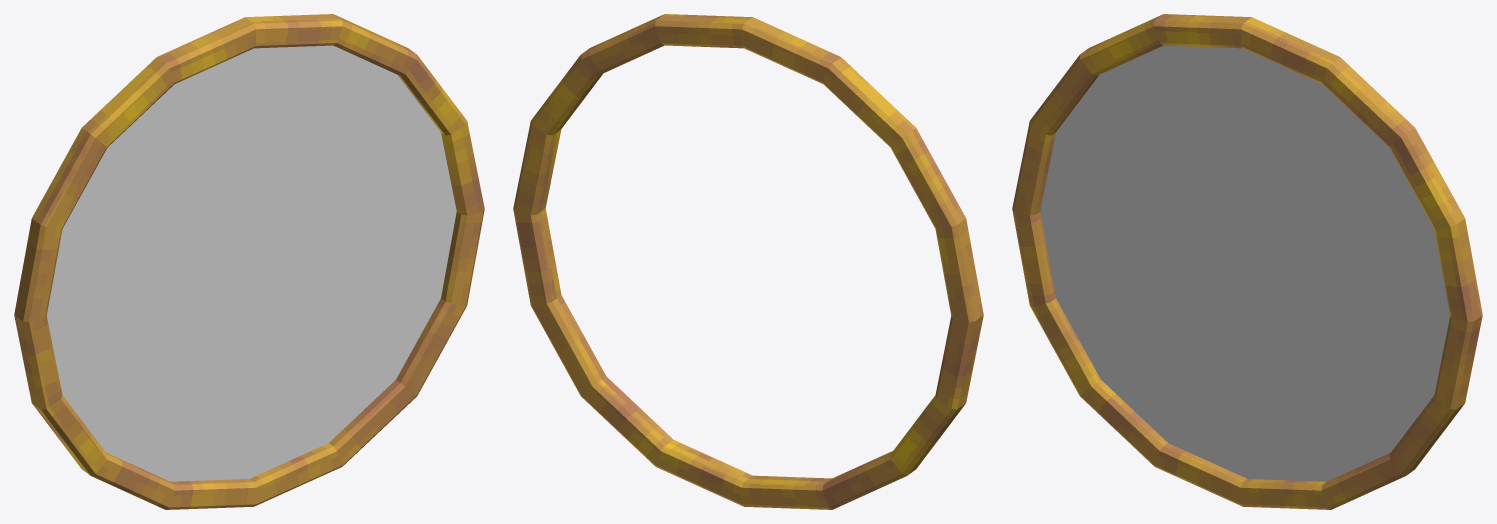
The model's file is ring.glb.
3 renders of one model, left to right at view 1: azimuth 30°, elevation 25°; view 2: azimuth 150°, elevation 25°; view 3: azimuth 330°, elevation 25°, orthographic.
Visible parts, largest first — view 1: EnergyField, Ring; view 2: Ring; view 3: EnergyField, Ring.
Boxes of the visible parts, bbox=[...] form: EnergyField: bbox=[46, 45, 456, 481]; Ring: bbox=[14, 14, 484, 509]; Ring: bbox=[513, 14, 983, 509]; EnergyField: bbox=[1040, 45, 1450, 481]; Ring: bbox=[1012, 14, 1482, 509].
Size of the model in its own units: 2 by 2 by 0.1.
1 material, 1 textured.
